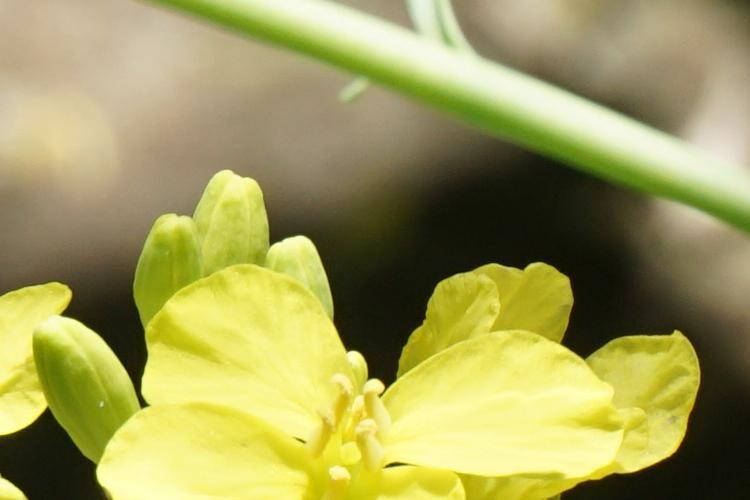bud: (40, 315, 139, 450), (259, 239, 357, 324), (196, 173, 272, 277), (139, 217, 204, 310)
yellow: (126, 275, 692, 500)
